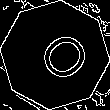O_SW: (22, 22, 88, 88)
